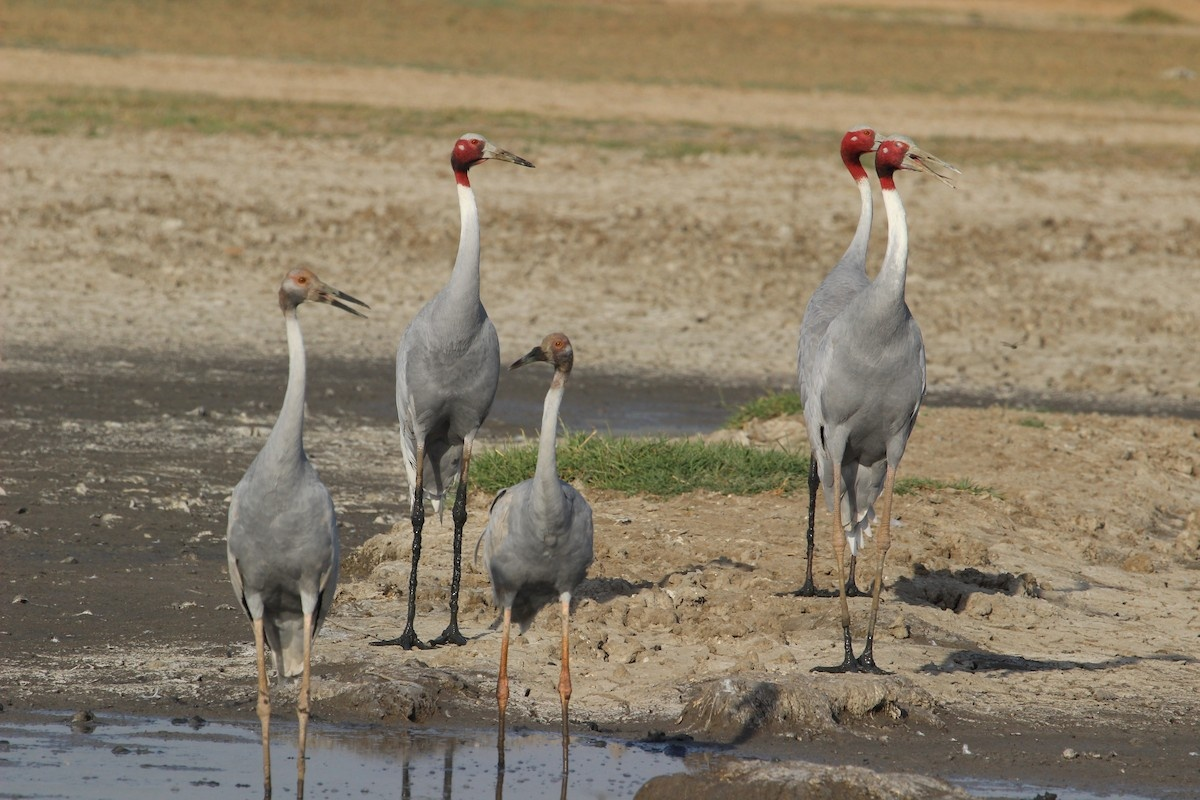crane: (809, 136, 983, 680), (365, 129, 538, 664), (223, 265, 376, 795), (491, 336, 623, 739)
